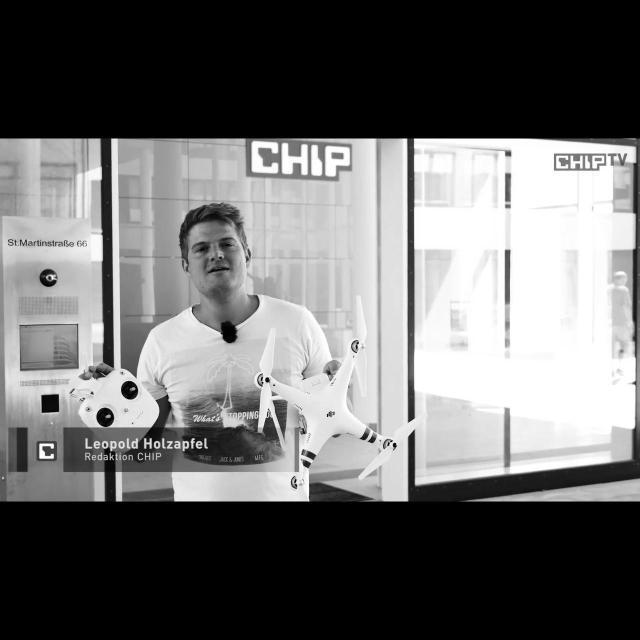Drons: (242, 298, 434, 494)
